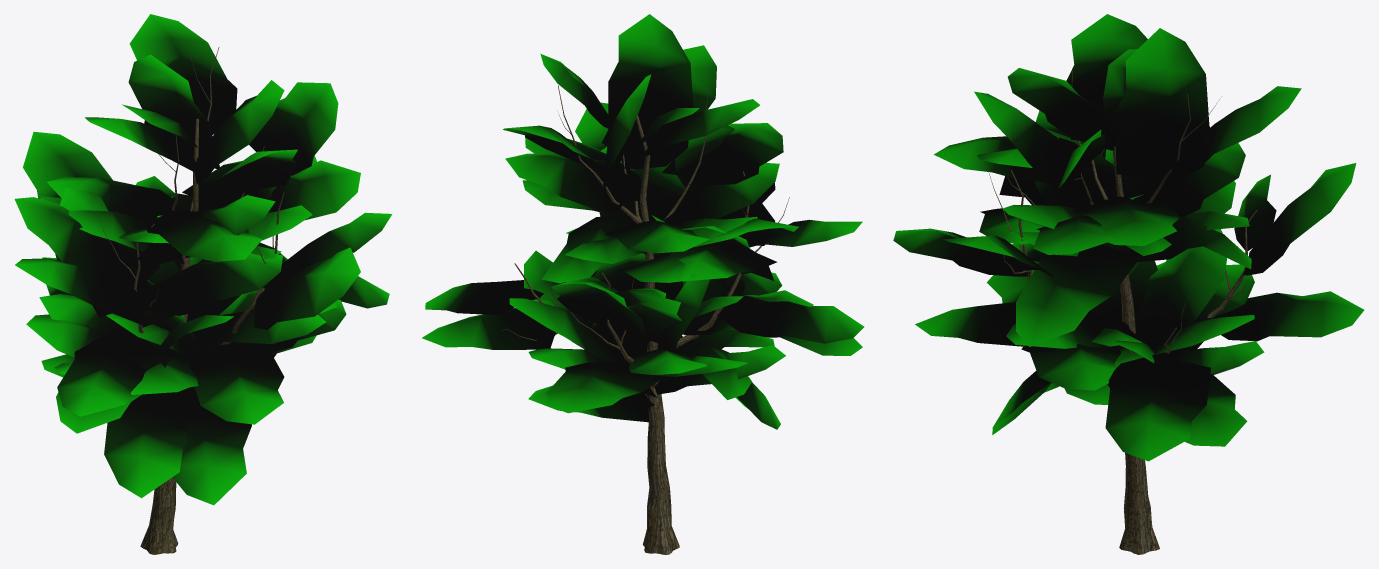
File: oaktrees2.fbx
The picture shows the model from 3 angles, left to right: view 1: azimuth 30°, elevation 25°; view 2: azimuth 150°, elevation 25°; view 3: azimuth 270°, elevation 25°; orthographic projection. The views are drawn at different scales.
Parts seen in each view (by area): view 1: Treemedium; view 2: Treemedium; view 3: Treemedium.
Boxes of the visible parts, <box> form: Treemedium: <box>14,14,392,554</box>; Treemedium: <box>422,14,864,554</box>; Treemedium: <box>893,14,1364,554</box>.
Size of the model in its own units: 487 by 559 by 461.
